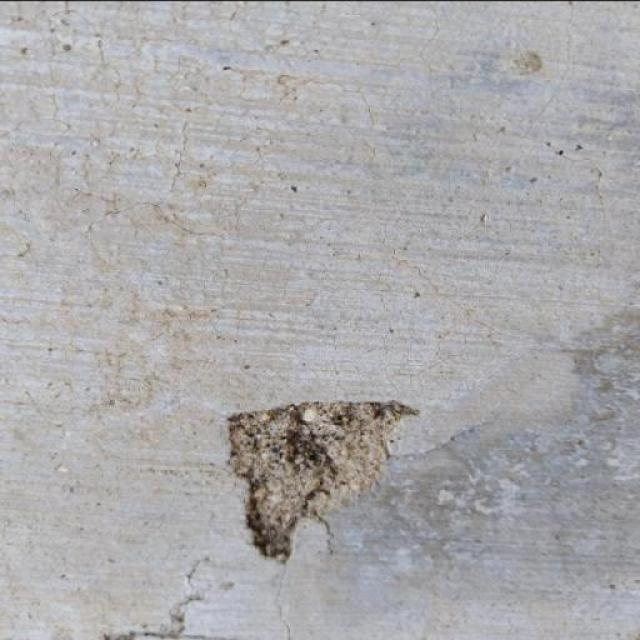D10: (226, 399, 419, 562)
